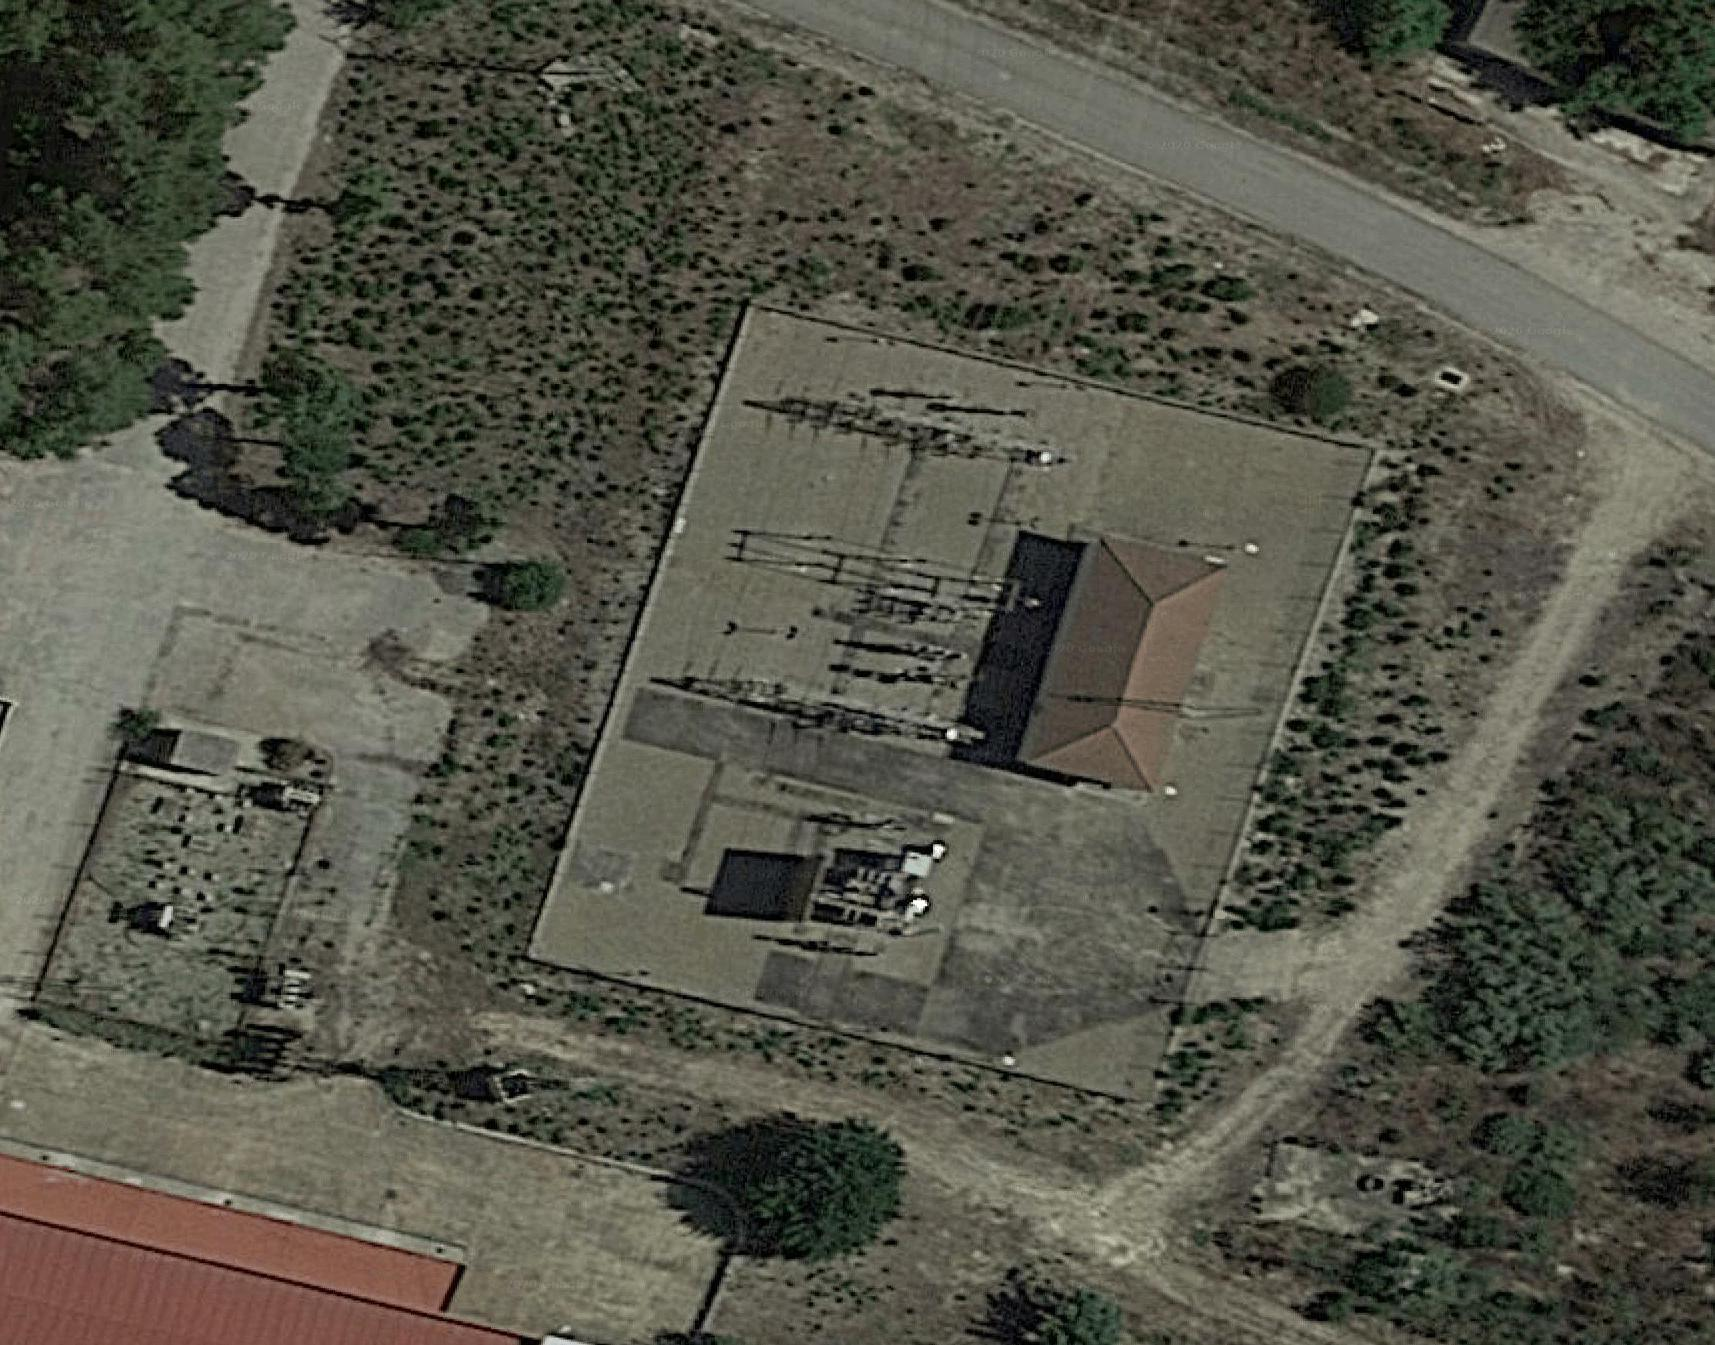substation: (632, 372, 1077, 975)
